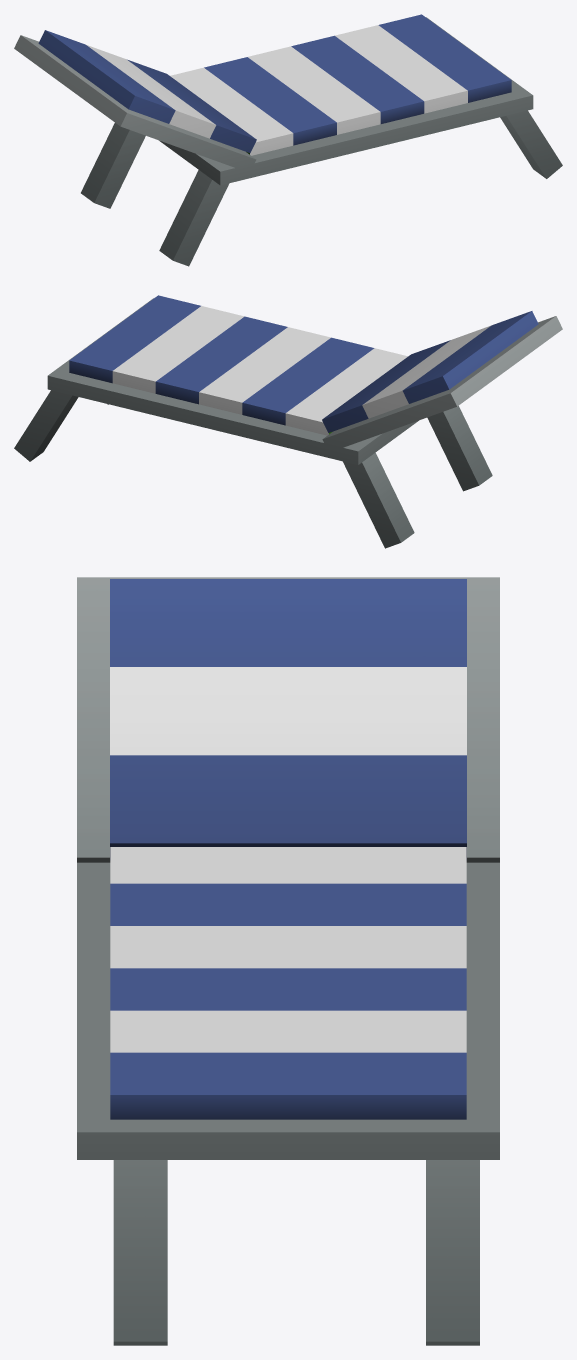
The model's file is sdraio_2.fbx.
The picture shows the model from 3 angles, top to bottom: view 1: azimuth 30°, elevation 25°; view 2: azimuth 150°, elevation 25°; view 3: azimuth 270°, elevation 25°; orthographic projection. The views are drawn at different scales.
Parts seen in each view (by area): view 1: sdraio_2; view 2: sdraio_2; view 3: sdraio_2.
Part boxes in pixels (x1,y1,x2,y2): sdraio_2: [14, 14, 562, 266]; sdraio_2: [14, 295, 562, 548]; sdraio_2: [77, 577, 499, 1345].
Bounding box in the file's own units: 143 × 56.1 × 58.63.
